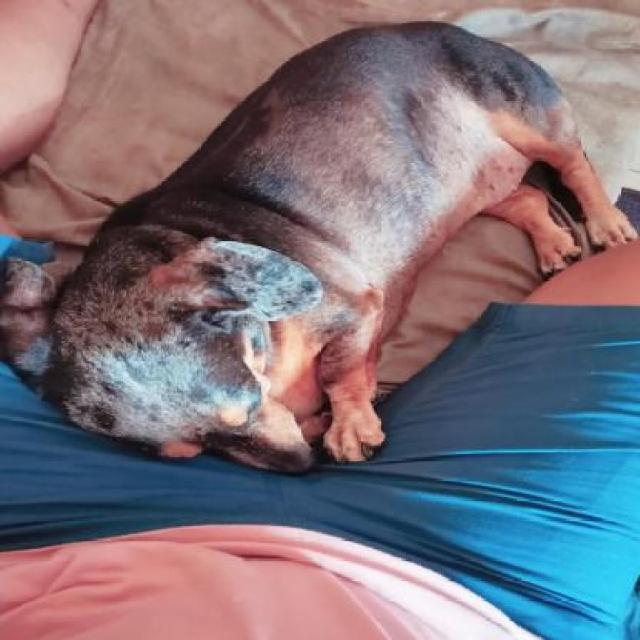Dog: (46, 17, 639, 477)
